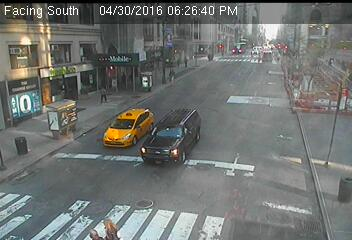neg: (160, 113, 190, 153), (95, 36, 122, 73), (220, 129, 245, 162), (48, 94, 73, 127), (245, 173, 270, 206), (318, 171, 341, 201), (36, 38, 56, 65), (278, 125, 298, 152), (255, 36, 275, 61), (138, 191, 155, 213), (144, 68, 161, 90), (210, 41, 226, 63), (13, 133, 29, 154), (319, 80, 334, 100), (154, 35, 169, 55), (290, 70, 304, 88)
pos: (101, 216, 115, 234), (98, 85, 111, 101)
